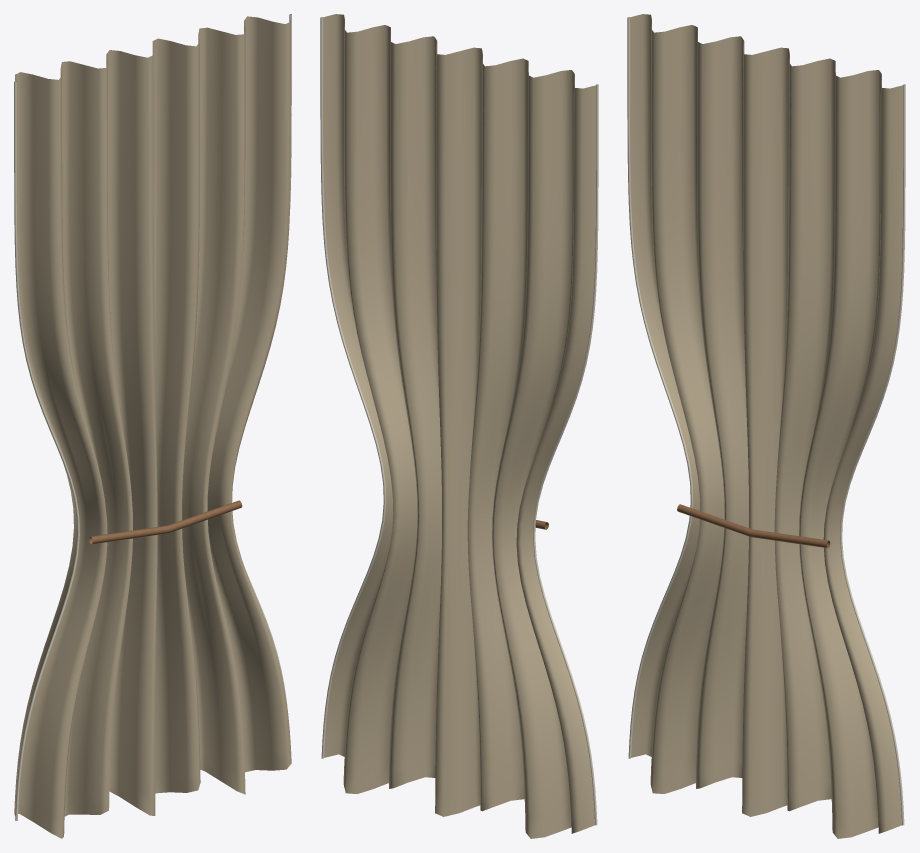
The model's file is curtains-1.glb.
The picture shows the model from 3 angles, left to right: view 1: azimuth 30°, elevation 25°; view 2: azimuth 150°, elevation 25°; view 3: azimuth 330°, elevation 25°; orthographic projection.
Parts seen in each view (by area): view 1: Curtain panel, Stitched hem, Gathering tie; view 2: Curtain panel, Stitched hem.001, Stitched hem; view 3: Curtain panel, Stitched hem, Stitched hem.001, Gathering tie.
Part boxes in pixels (x1,y1,x2,y2): Curtain panel: (14,16,291,838); Stitched hem: (14,81,79,820); Gathering tie: (89,500,242,544); Curtain panel: (322,14,596,838); Stitched hem.001: (320,17,386,758); Stitched hem: (533,84,598,825); Curtain panel: (629,14,903,838); Stitched hem: (627,17,693,758); Stitched hem.001: (840,84,905,825); Gathering tie: (677,504,830,548).
Size of the model in its own units: 0.4838 by 1.27 by 0.085.
3 materials, 1 textured.
